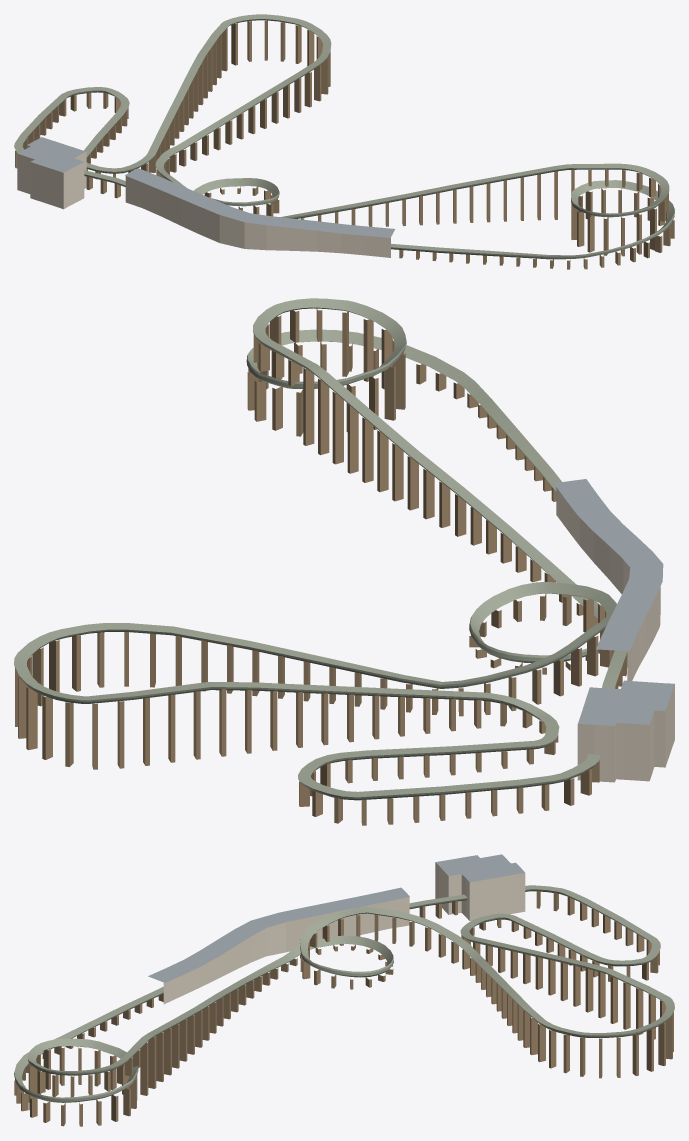
File: carowinds-carolina-goldrusher.glb
3 renders of one model, top to bottom at view 1: azimuth 30°, elevation 25°; view 2: azimuth 150°, elevation 25°; view 3: azimuth 270°, elevation 25°, orthographic. The views are drawn at different scales.
Parts seen in each view (by area): view 1: Carolina Goldrusher; view 2: Carolina Goldrusher; view 3: Carolina Goldrusher.
Part boxes in pixels (<box>): Carolina Goldrusher: <box>14,14,674,269</box>; Carolina Goldrusher: <box>14,298,674,825</box>; Carolina Goldrusher: <box>14,854,674,1126</box>.
Bounding box in the file's own units: 123 × 14.94 × 146.
